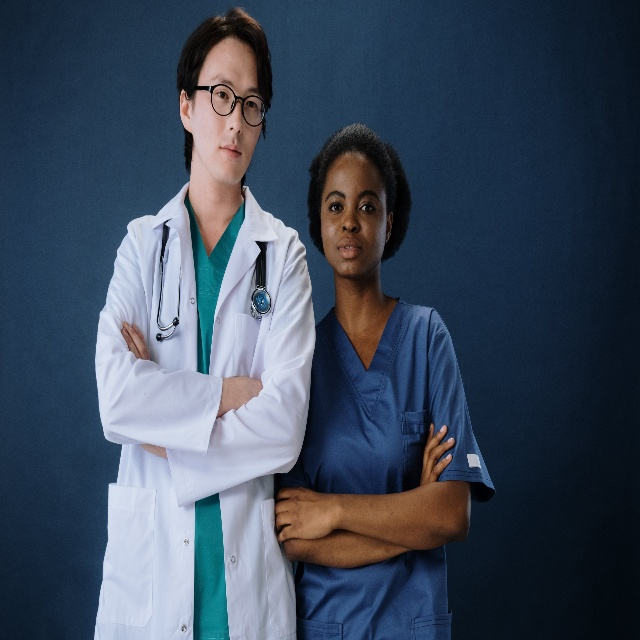Gafas: (194, 82, 265, 128)
Sin_guantes: (273, 480, 335, 542), (418, 422, 455, 485), (227, 369, 264, 410), (120, 315, 148, 361)
